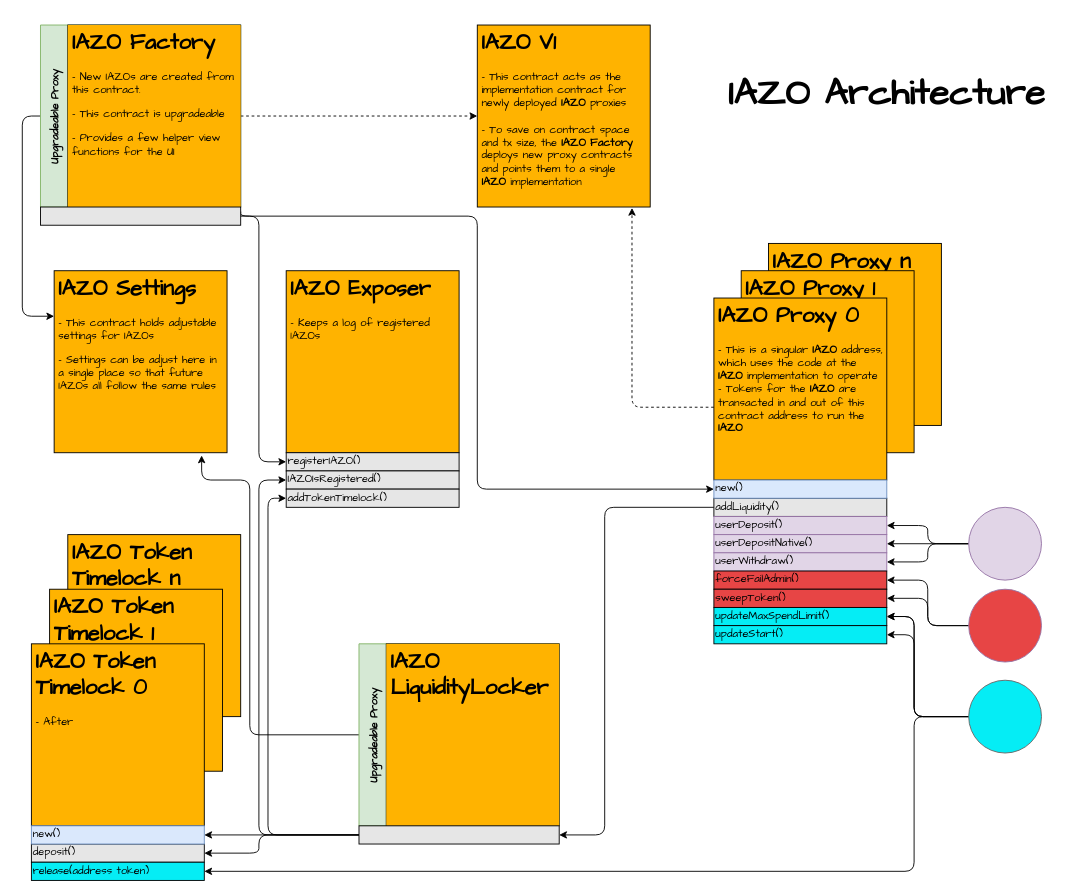
The diagram is 1076 pixels wide and 896 high, and some of its shapes have lost their labels. Here are the shapes that lost their labels. From the top down, the centre of each, then its label:
[140,215]: createIAZO()
[1004,543]: User
[1004,625]: IAZO General Admin
[1004,716]: IAZO Owner
[458,834]: lockLiquidity()
